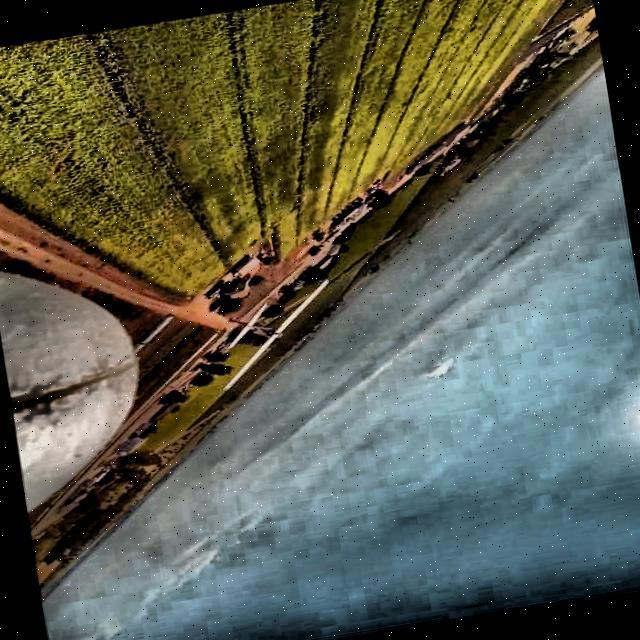iha: (199, 267, 359, 400)
